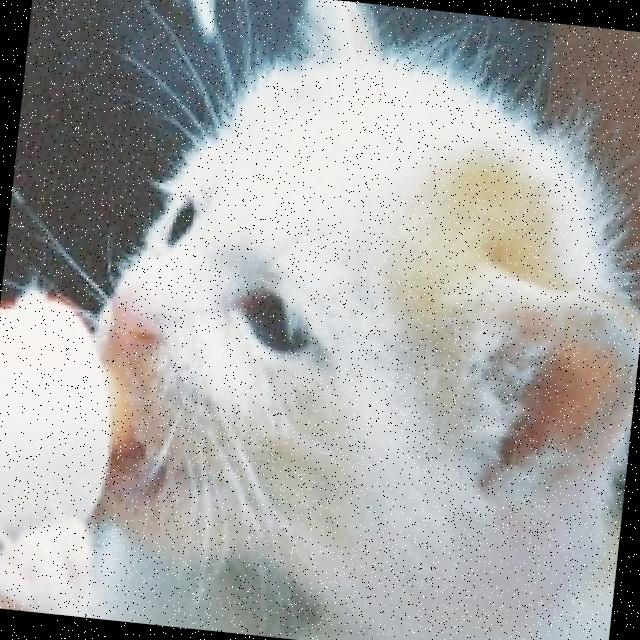Happy: (32, 130, 410, 614)
